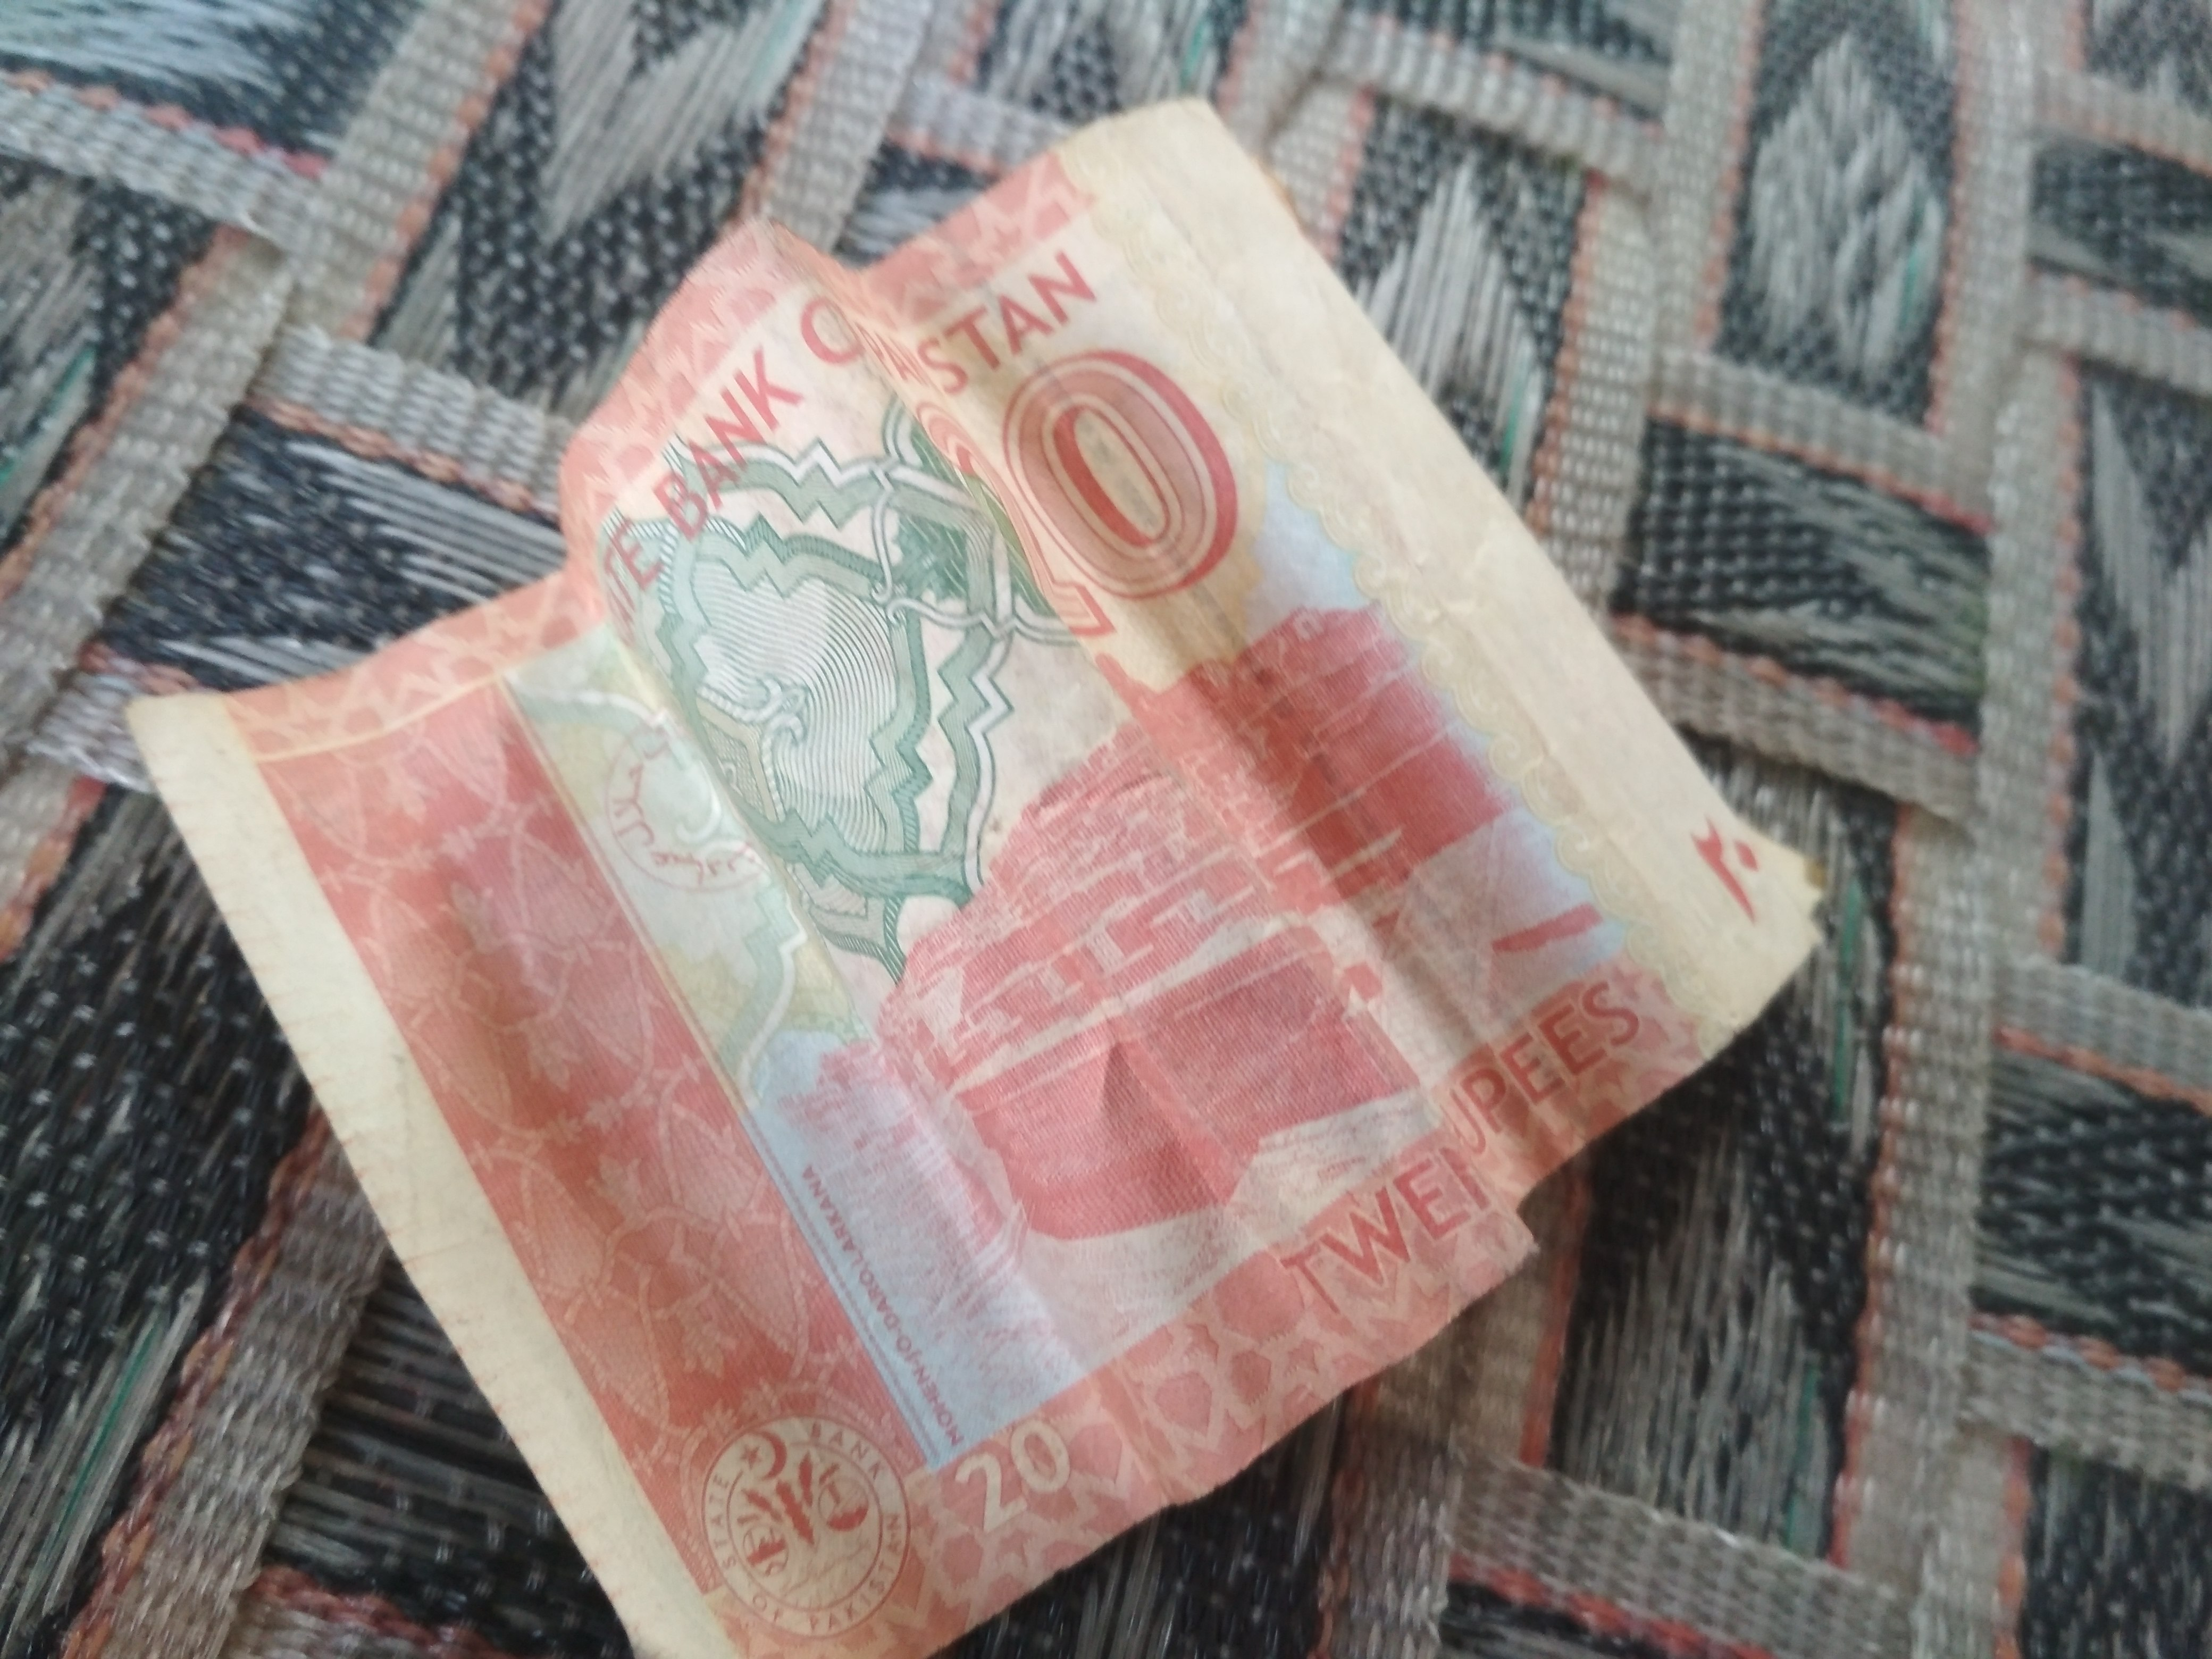20 rupee: (92, 110, 1883, 1649)
